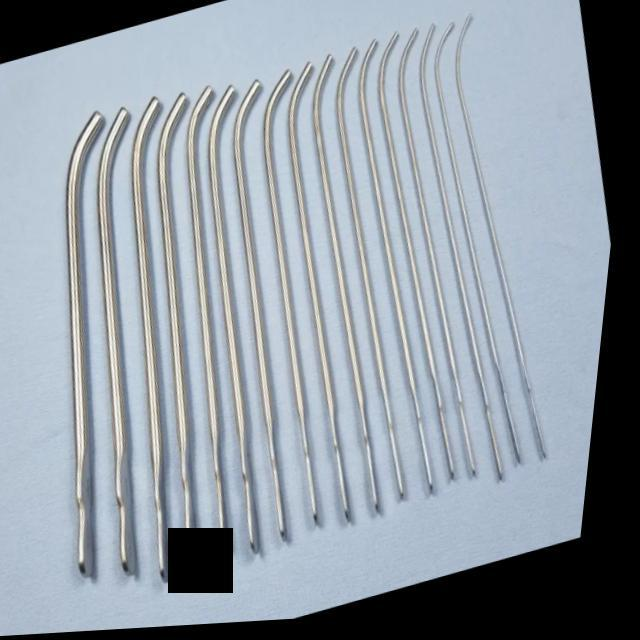Urethral Dilators: (54, 84, 286, 596), (0, 92, 222, 606), (13, 93, 243, 584), (118, 78, 342, 582), (86, 80, 310, 583), (141, 73, 357, 584), (398, 0, 608, 505), (172, 71, 382, 559), (204, 62, 406, 550), (347, 19, 538, 516), (240, 57, 430, 552), (329, 24, 519, 518), (289, 36, 476, 533), (267, 49, 448, 536), (309, 35, 491, 518), (390, 11, 562, 504)
